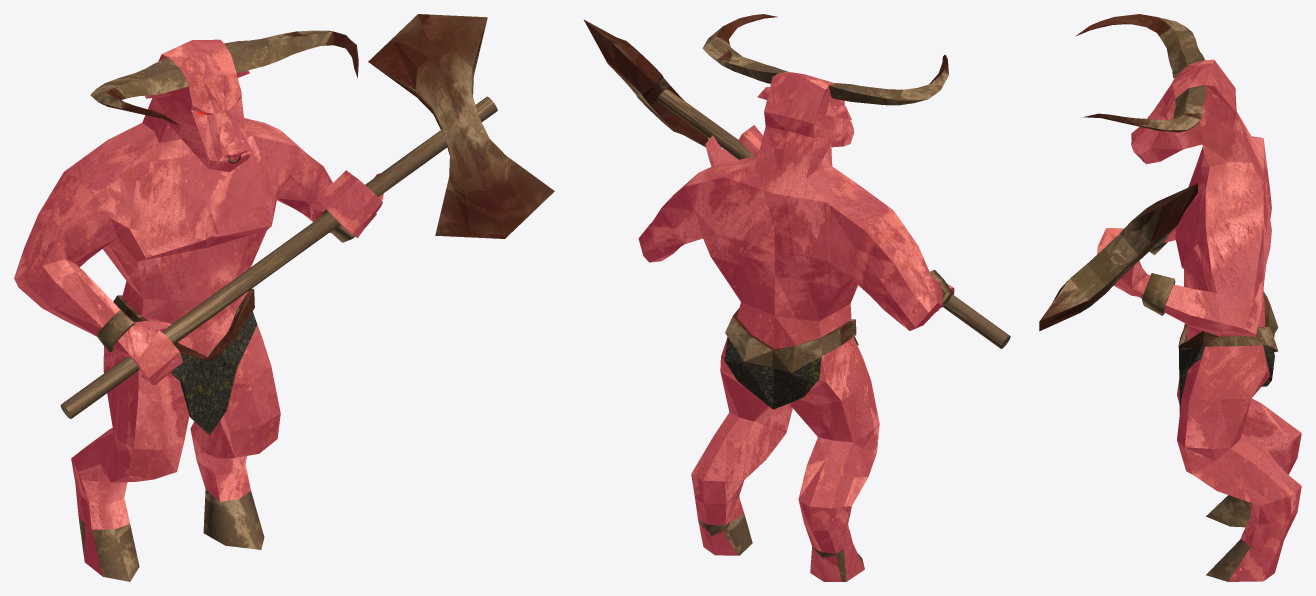
The model's file is minotaver5-8.gltf.
3 views of the same model, side by side, from view 1: azimuth 30°, elevation 25°; view 2: azimuth 150°, elevation 25°; view 3: azimuth 270°, elevation 25° (orthographic). The views are drawn at different scales.
Visible parts, largest first — view 1: Cube.003, Cube.009, Cylinder, Cube.004, kiklca, Cube.006, Cube.008, pas, Cube.007; view 2: Cube.003, Cube.009, pas, kiklca, Cylinder, Cube.008, Cube.006, Cube.004; view 3: Cube.003, Cube.009, Cube.008, Cube.006, Cube.004, pas, kiklca, Cube.005.
Part boxes in pixels (x1,y1,x2,y2): Cube.003: (14, 39, 383, 576); Cube.009: (368, 14, 554, 238); Cylinder: (60, 96, 497, 418); Cube.004: (79, 489, 264, 581); kiklca: (122, 293, 257, 434); Cube.006: (224, 30, 358, 77); Cube.008: (90, 57, 189, 125); pas: (113, 288, 254, 361); Cube.007: (97, 310, 135, 352); Cube.003: (638, 71, 954, 581); Cube.009: (583, 19, 708, 147); pas: (725, 308, 856, 373); kiklca: (724, 331, 858, 409); Cylinder: (657, 89, 1010, 348); Cube.008: (829, 55, 948, 105); Cube.006: (702, 14, 787, 83); Cube.004: (698, 513, 864, 581); Cube.003: (1097, 59, 1301, 581); Cube.009: (1039, 183, 1197, 331); Cube.008: (1075, 14, 1204, 78); Cube.006: (1083, 85, 1205, 132); Cube.004: (1206, 495, 1251, 581); pas: (1178, 292, 1278, 352); kiklca: (1179, 334, 1274, 413); Cube.005: (1142, 273, 1175, 315).
Size of the model in its own units: 9.94 by 11.08 by 5.49.
Materials: 6 (6 with a texture image).
